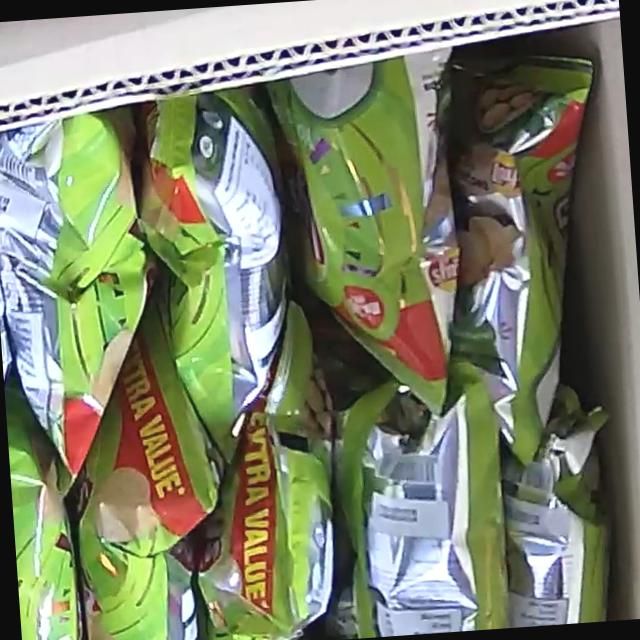yogurt: (0, 40, 634, 640)
